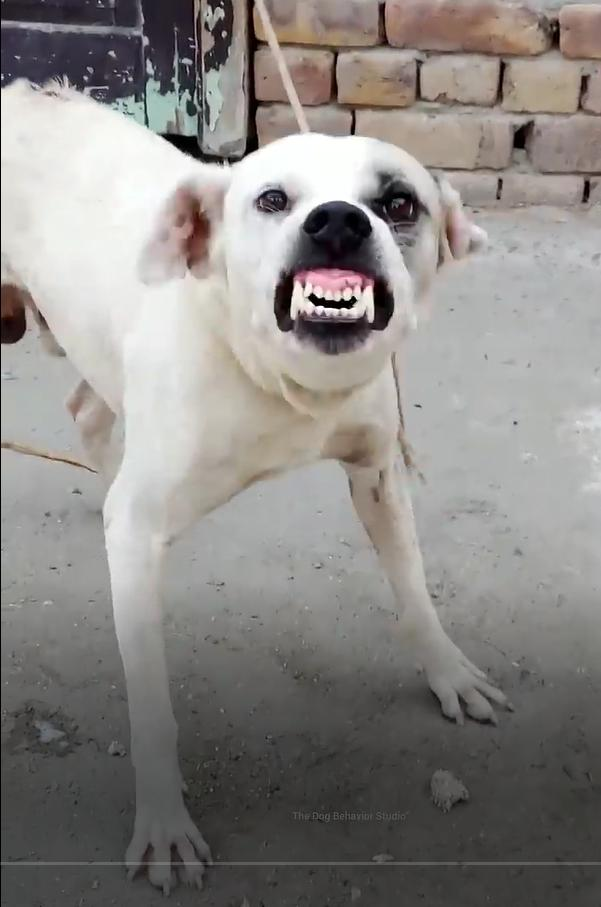dog_aggressive: (0, 35, 548, 907)
